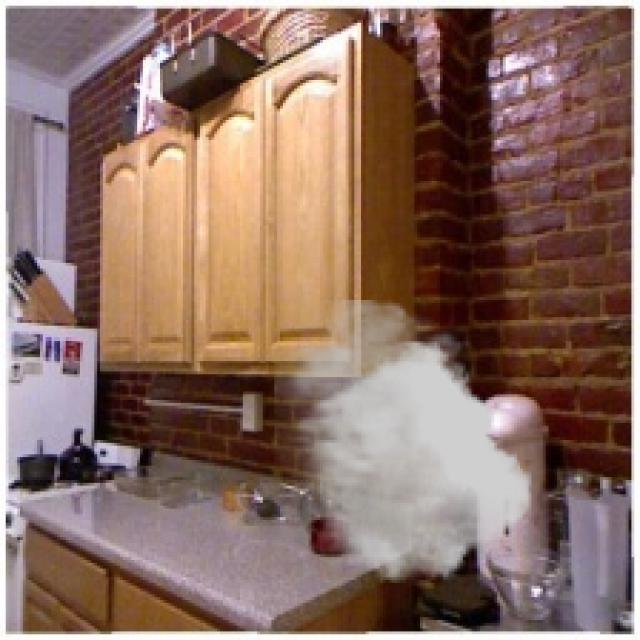Smoke: (274, 300, 532, 583)
